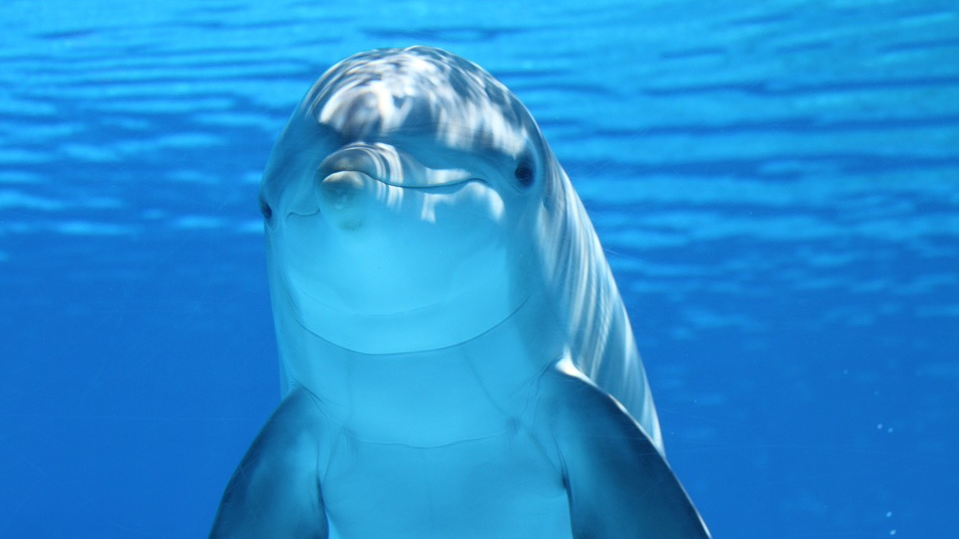Dolphin: (175, 40, 732, 539)
